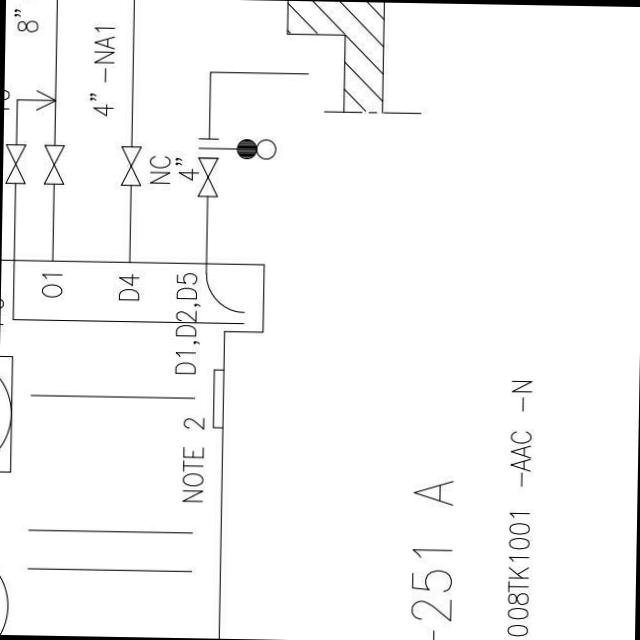GV: (2, 137, 30, 191), (38, 139, 66, 189), (114, 142, 144, 188), (194, 152, 220, 200)
